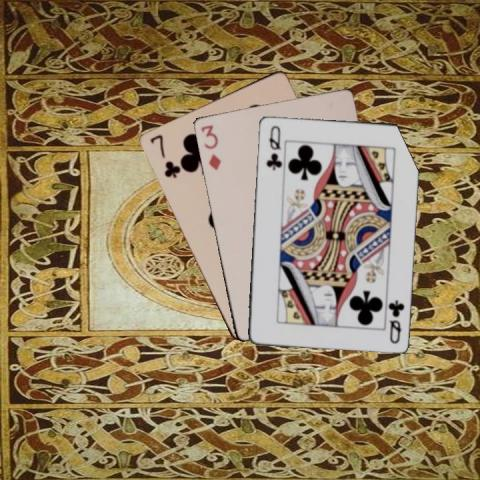3d: (197, 122, 222, 172)
7c: (146, 132, 180, 180)
Qc: (385, 296, 405, 344), (263, 122, 282, 171)
